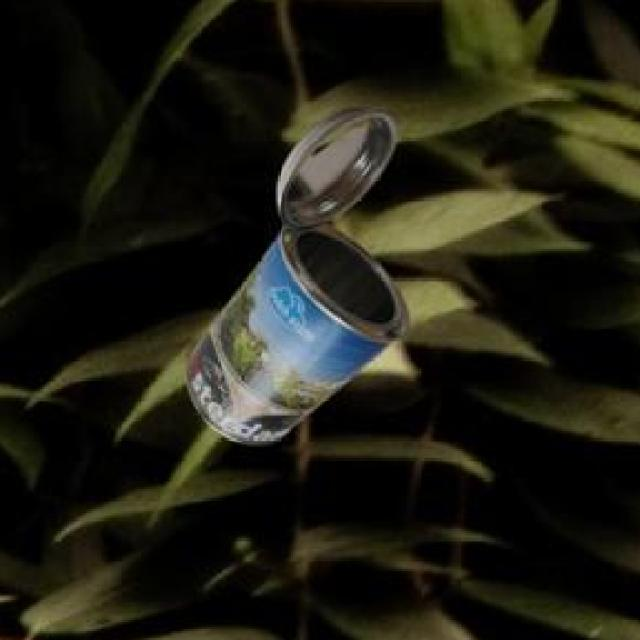logam: (183, 106, 406, 441)
